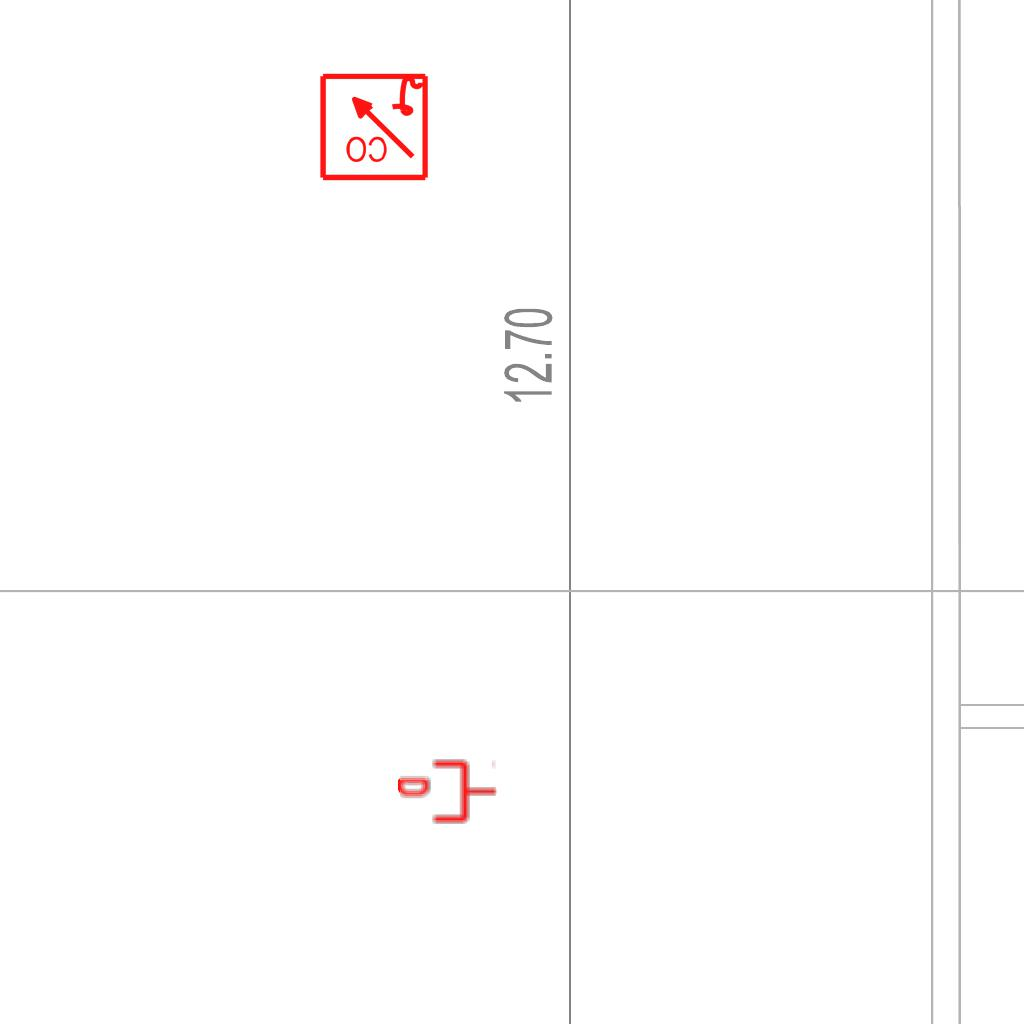Datenanschluss_einfach: (398, 757, 498, 826)
ROA_Rauchmelder_optisch_mit_Signalgeber_(Sockelsirene): (317, 69, 430, 182)
